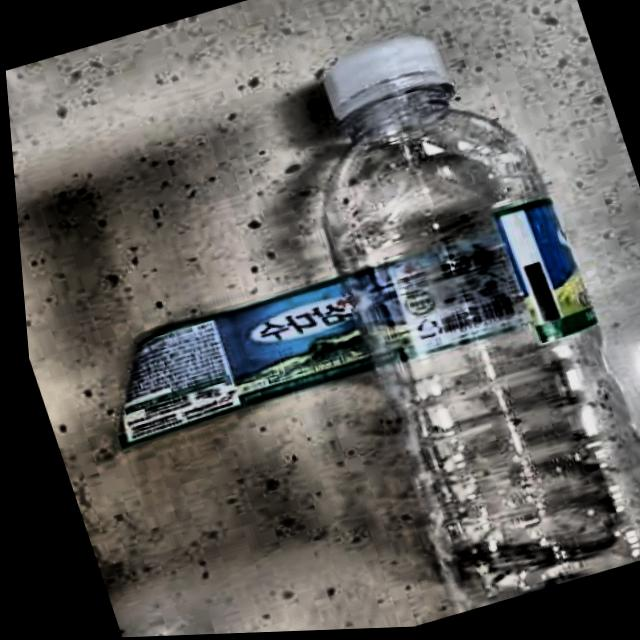Bottles: (232, 0, 640, 630)
